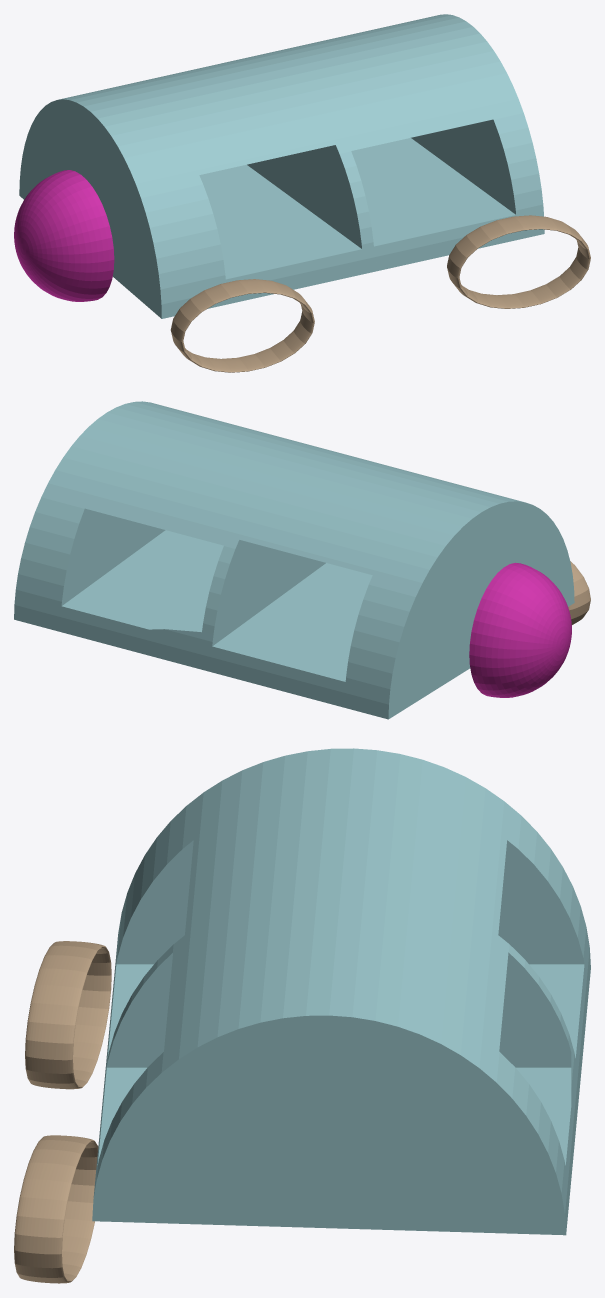
File: carmodel.glb
3 views of the same model, one above another, from view 1: azimuth 30°, elevation 25°; view 2: azimuth 150°, elevation 25°; view 3: azimuth 270°, elevation 25° (orthographic). The views are drawn at different scales.
Parts seen in each view (by area): view 1: Mesh_Mesh_head_geo.001_lambert2SG.001; view 2: Mesh_Mesh_head_geo.001_lambert2SG.001; view 3: Mesh_Mesh_head_geo.001_lambert2SG.001.
Part boxes in pixels (x1,y1,x2,y2): Mesh_Mesh_head_geo.001_lambert2SG.001: [14, 14, 590, 372]; Mesh_Mesh_head_geo.001_lambert2SG.001: [14, 401, 590, 719]; Mesh_Mesh_head_geo.001_lambert2SG.001: [14, 748, 590, 1283].
Size of the model in its own units: 80 by 32.4 by 59.
